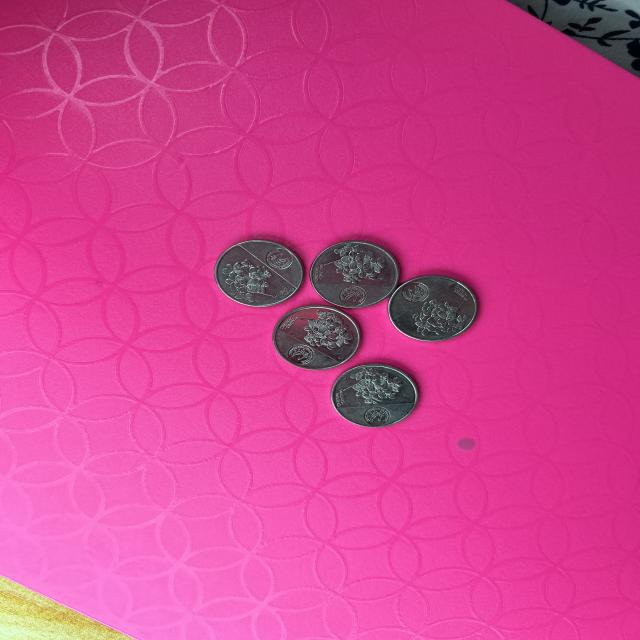1_New_Back: (294, 307, 354, 355), (330, 239, 387, 284), (214, 256, 269, 300), (344, 366, 402, 405), (415, 296, 464, 340)
